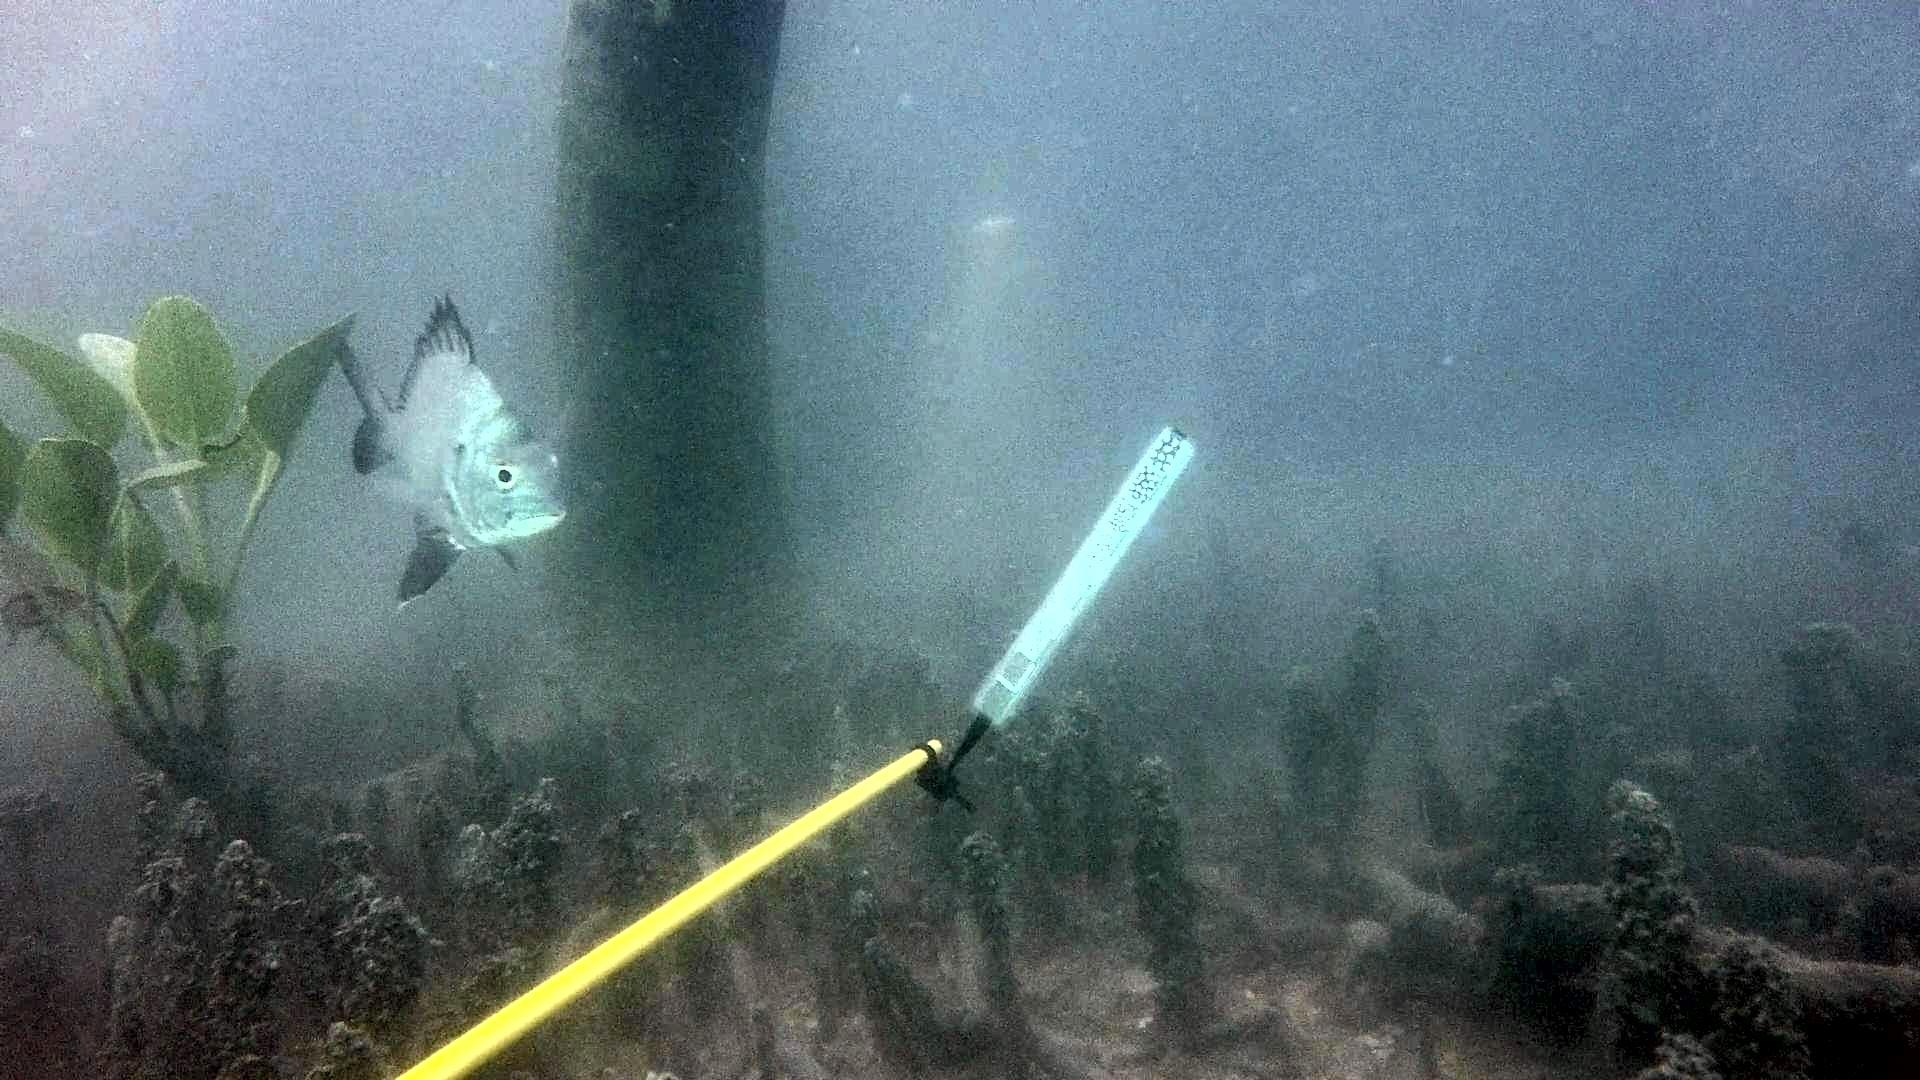acanthopagrus palmaris: (328, 286, 583, 613)
